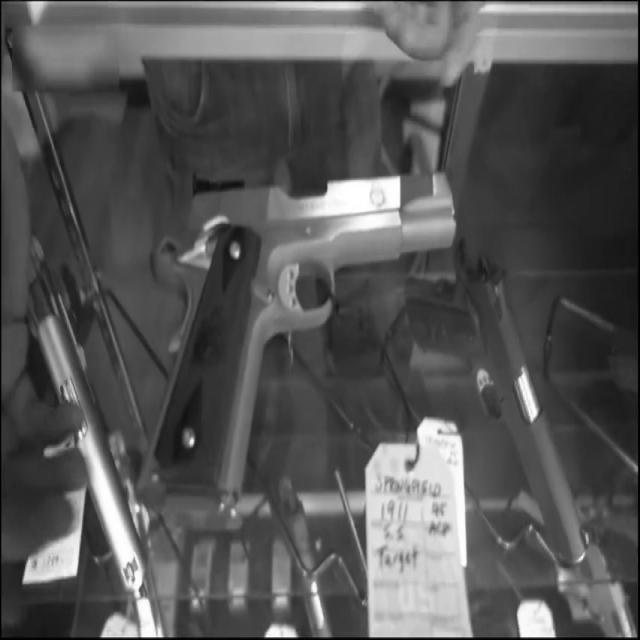Hand-Gun: (158, 138, 451, 490)
